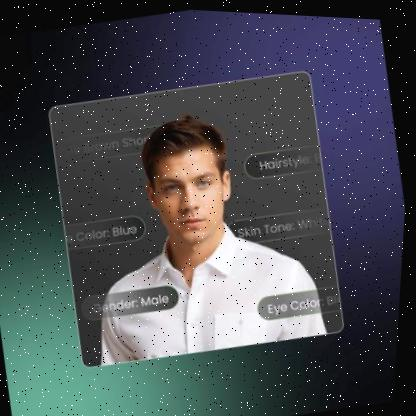person: (48, 83, 348, 378)
